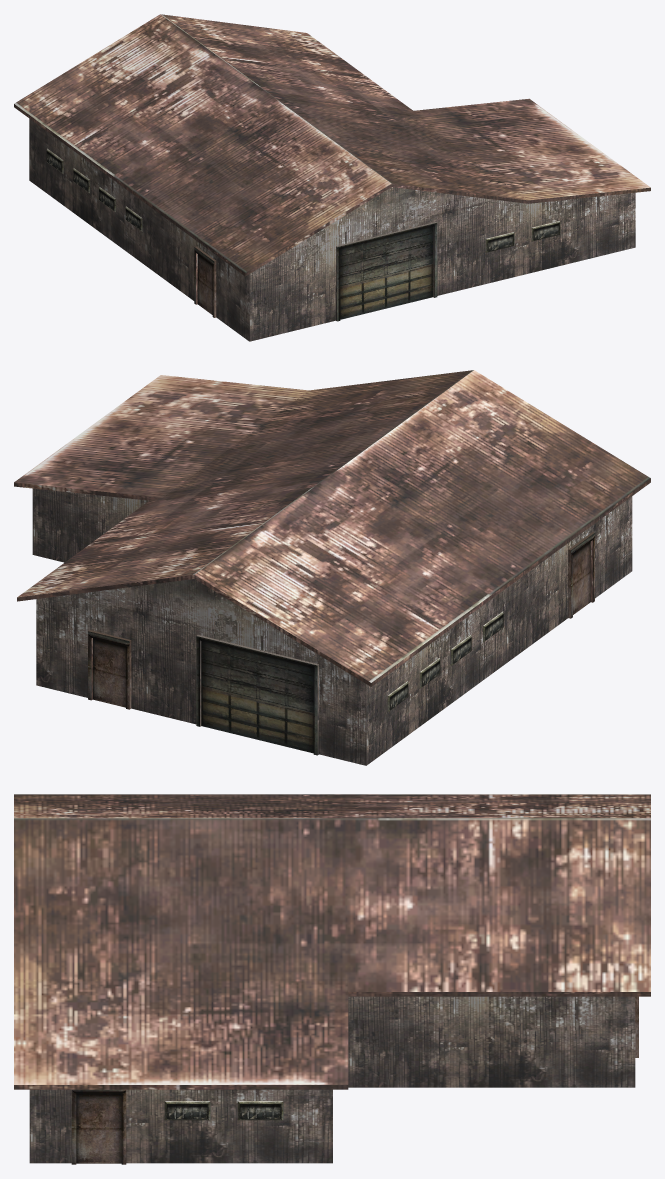
The model's file is warehs14.glb.
The picture shows the model from 3 angles, top to bottom: view 1: azimuth 30°, elevation 25°; view 2: azimuth 150°, elevation 25°; view 3: azimuth 270°, elevation 25°; orthographic projection. The views are drawn at different scales.
Visible parts, largest first — view 1: _warehs14; view 2: _warehs14; view 3: _warehs14.
Boxes of the visible parts, bbox=[...] form: _warehs14: bbox=[14, 14, 650, 341]; _warehs14: bbox=[14, 370, 650, 765]; _warehs14: bbox=[14, 794, 650, 1164].
Bounding box in the file's own units: 21.79 × 6.62 × 21.53.
Materials: 1 (1 with a texture image).
